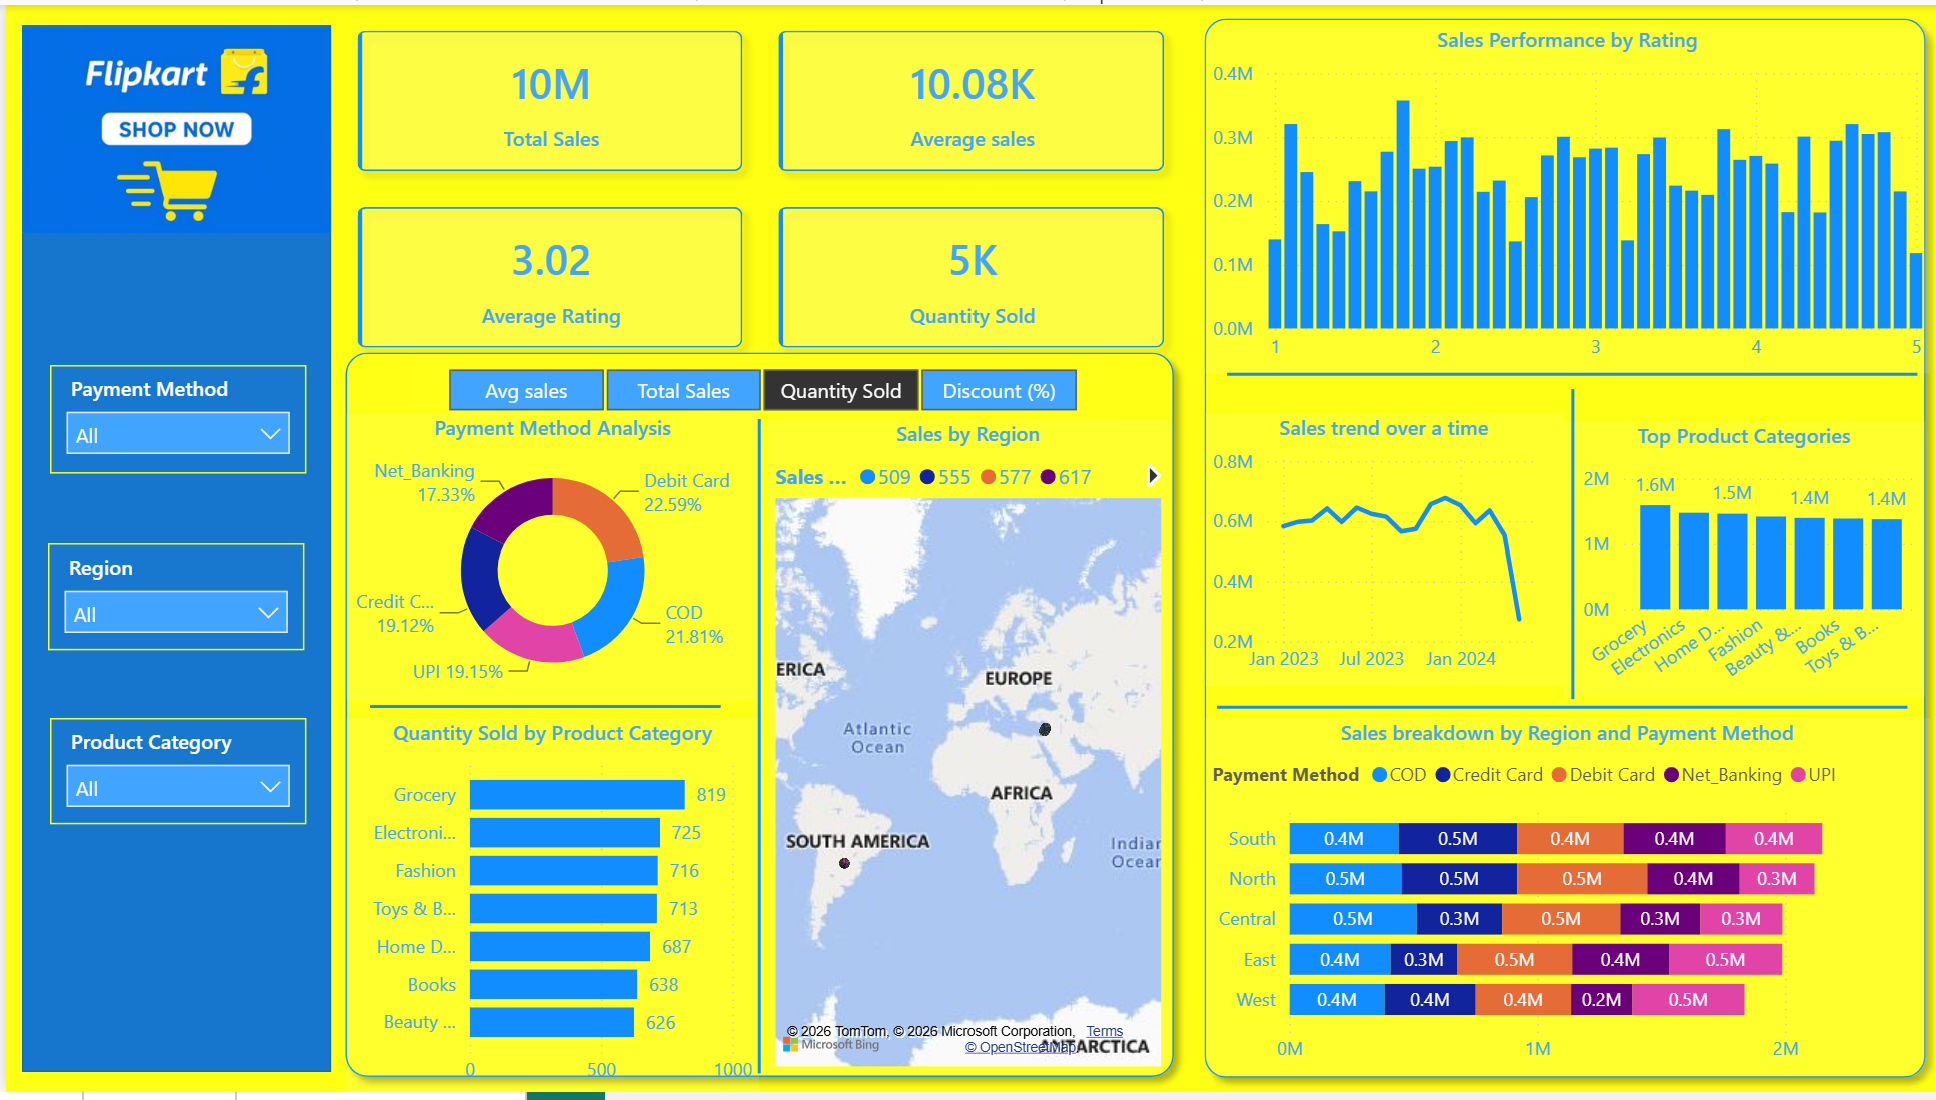

This screenshot's page, from the dashboard's own definition file:
{"tool":"powerbi","page":{"name":"Duplicate of Page 1","canvas":[1280,720],"ordinal":0},"visuals":[{"type":"cardVisual","fields":{"Data":["Sheet1.Total Sales","Sheet1.Avg sales","Avg(Sheet1.Customer Rating)","Sum(Sheet1.Quantity Sold)"]},"box":[215.9,0,569.6,245],"z":0},{"type":"shape","box":[10.7,13.8,205.2,693.6],"z":1000},{"type":"image","box":[10.7,13.8,205.2,139.3],"z":2000},{"type":"shape","box":[215.9,222,566.5,497.6],"z":3000},{"type":"donutChart","title":"Payment Method Analysis ","fields":{"Category":["Sheet1.Payment Method"],"Y":["Sheet1.Total Sales"]},"box":[225.1,271,274.1,189.9],"z":4000},{"type":"slicer","fields":{"Values":["Sheet1.Payment Method"]},"box":[29.1,238.9,170,72],"z":5000},{"type":"slicer","fields":{"Values":["Matrix.Matrix"]},"box":[267.9,234.3,465.5,39.8],"z":6000},{"type":"clusteredBarChart","title":"Quantity Sold by Product Category","fields":{"Category":["Sheet1.Product Category"],"Y":["Sum(Sheet1.Quantity Sold)"]},"box":[225.1,471.6,274.1,251.1],"z":7000},{"type":"shape","box":[241.9,457.8,232.7,13.8],"z":8000},{"type":"shape","box":[493,274.1,12.2,433.3],"z":9000},{"type":"map","title":"Sales by Region ","fields":{"Category":["Sheet1.Region"],"Series":["Sheet1.Sales Amount"]},"box":[505.3,274.1,264.9,433.3],"z":10000},{"type":"shape","box":[783.3,0,496.7,720],"z":11000},{"type":"barChart","title":"Sales breakdown by Region and Payment Method","fields":{"Category":["Sheet1.Region"],"Y":["Sheet1.Total Sales"],"Series":["Sheet1.Payment Method"]},"box":[794.6,471.6,480.8,237.3],"z":12000},{"type":"areaChart","title":"Sales Performance by Rating","fields":{"Category":["Sheet1.Customer Rating"],"Y":["Flipkart_Data.Total Sales"]},"box":[794.6,13.8,480.8,231.2],"z":13000},{"type":"lineChart","title":"Sales trend over a time","fields":{"Category":["Sheet1.Order Date.Variation.Date Hierarchy.Year","Sheet1.Order Date.Variation.Date Hierarchy.Quarter","Sheet1.Order Date.Variation.Date Hierarchy.Month","Sheet1.Order Date.Variation.Date Hierarchy.Day"],"Y":["Sheet1.Total Sales"]},"box":[794.6,271,237.3,180.7],"z":14000},{"type":"columnChart","title":"Top Product Categories","fields":{"Category":["Sheet1.Product Category"],"Y":["Sheet1.Total Sales"]},"box":[1031.6,254.6,241.3,204.2],"z":15000},{"type":"shape","box":[808.4,238.9,457.8,12.2],"z":16000},{"type":"shape","box":[802.3,459.3,457.8,12.2],"z":17000},{"type":"shape","box":[1028.9,254.2,18.4,205.2],"z":18000},{"type":"slicer","fields":{"Values":["Sheet1.Region"]},"box":[27.6,356.7,170,70.4],"z":19000},{"type":"slicer","fields":{"Values":["Sheet1.Product Category"]},"box":[29.1,471.6,170,70.4],"z":20000}]}

Visuals, with their boxes in screenshot pixels (x1, y1, x2, y2), scaled from the page's 1280x720 canvas onto the 1936x1100 screenshot:
cardVisual - Sheet1.Total Sales x Sheet1.Avg sales: [left=327, top=0, right=1188, bottom=374]
shape: [left=16, top=21, right=327, bottom=1081]
image: [left=16, top=21, right=327, bottom=234]
shape: [left=327, top=339, right=1183, bottom=1099]
"Payment Method Analysis " donutChart: [left=340, top=414, right=755, bottom=704]
slicer - Sheet1.Payment Method: [left=44, top=365, right=301, bottom=475]
slicer - Matrix.Matrix: [left=405, top=358, right=1109, bottom=419]
"Quantity Sold by Product Category" clusteredBarChart: [left=340, top=720, right=755, bottom=1099]
shape: [left=366, top=699, right=718, bottom=720]
shape: [left=746, top=419, right=764, bottom=1081]
"Sales by Region " map: [left=764, top=419, right=1165, bottom=1081]
shape: [left=1185, top=0, right=1935, bottom=1099]
"Sales breakdown by Region and Payment Method" barChart: [left=1202, top=720, right=1929, bottom=1083]
"Sales Performance by Rating" areaChart: [left=1202, top=21, right=1929, bottom=374]
"Sales trend over a time" lineChart: [left=1202, top=414, right=1561, bottom=690]
"Top Product Categories" columnChart: [left=1560, top=389, right=1925, bottom=701]
shape: [left=1223, top=365, right=1915, bottom=384]
shape: [left=1213, top=702, right=1906, bottom=720]
shape: [left=1556, top=388, right=1584, bottom=702]
slicer - Sheet1.Region: [left=42, top=545, right=299, bottom=653]
slicer - Sheet1.Product Category: [left=44, top=720, right=301, bottom=828]
